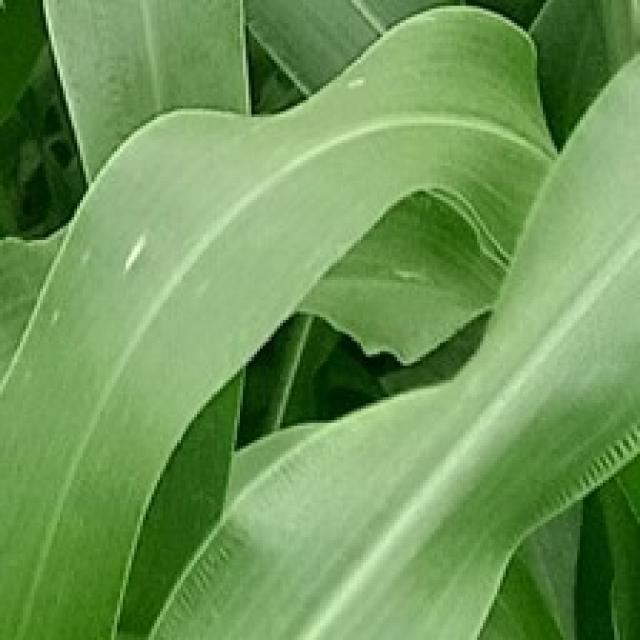Corn: (0, 0, 637, 637), (37, 0, 252, 186)
